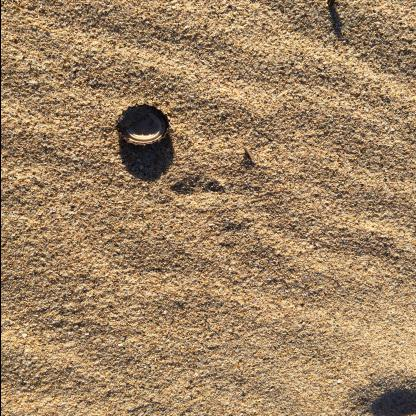metal: (114, 102, 170, 146)
